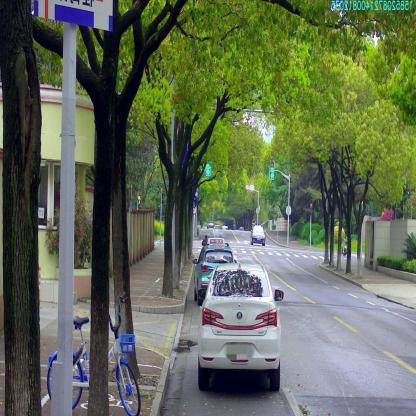traffic-light: (270, 160, 274, 179), (206, 162, 211, 176)
